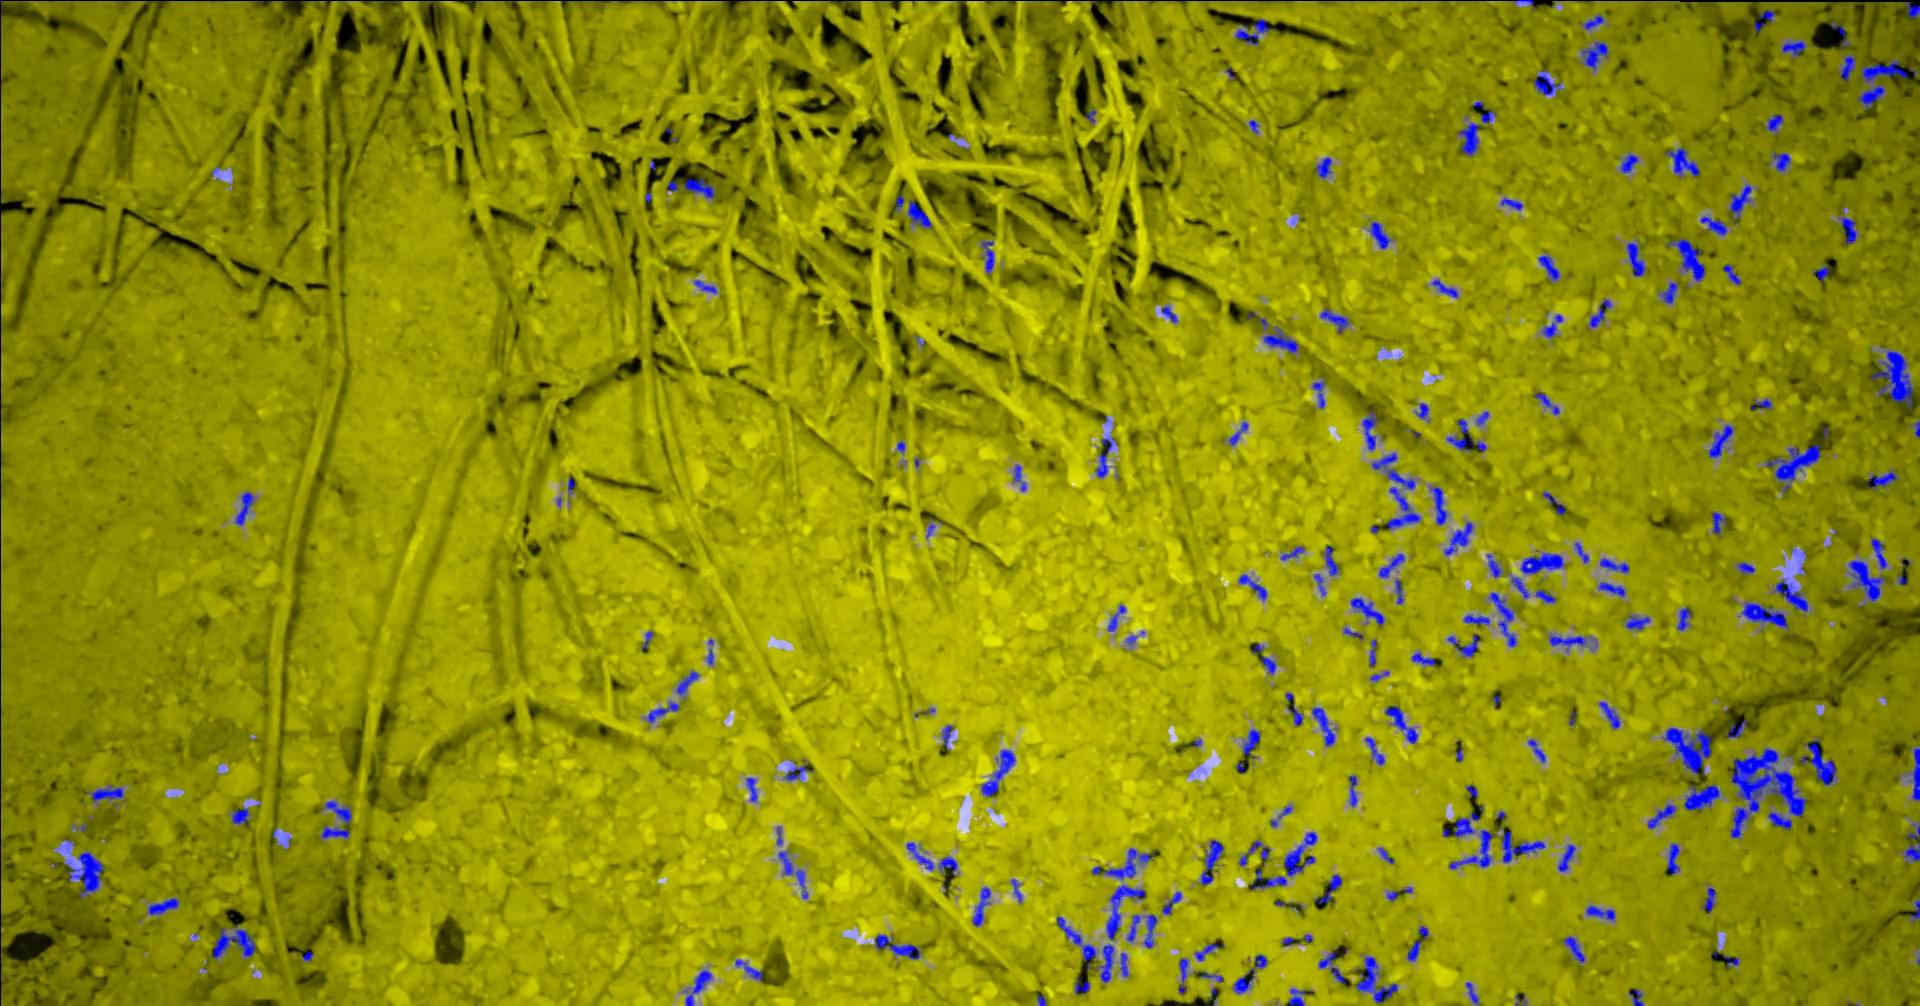ant: (1097, 884, 1145, 982), (1765, 443, 1820, 492), (1091, 847, 1156, 879), (1057, 916, 1095, 969), (1355, 956, 1397, 1005), (1799, 737, 1836, 785), (1497, 826, 1545, 862), (1448, 829, 1492, 868), (1666, 238, 1705, 279), (69, 851, 103, 898), (1371, 452, 1415, 489), (982, 749, 1015, 796), (212, 923, 255, 959), (1283, 831, 1316, 875), (1490, 592, 1516, 647), (1848, 560, 1884, 600), (1385, 486, 1420, 528), (1860, 58, 1919, 83), (1232, 954, 1267, 993), (778, 851, 808, 898), (1740, 601, 1788, 629), (1384, 705, 1417, 743), (319, 800, 350, 838), (874, 934, 919, 958), (1663, 146, 1699, 177), (1443, 521, 1473, 555), (1200, 840, 1223, 884), (684, 969, 712, 1005), (1683, 784, 1719, 810), (1775, 580, 1807, 611), (1350, 597, 1384, 625), (1443, 812, 1479, 837), (1310, 708, 1335, 746), (1520, 553, 1564, 573), (1236, 18, 1269, 44), (1263, 326, 1297, 353), (1707, 424, 1733, 457), (1318, 951, 1345, 984), (1095, 437, 1116, 478), (1313, 874, 1341, 904), (1730, 184, 1751, 224), (1238, 840, 1270, 865), (1247, 869, 1286, 889), (1457, 122, 1479, 156), (905, 842, 933, 870), (971, 887, 990, 926), (1581, 41, 1608, 69), (1857, 83, 1884, 109), (1238, 573, 1266, 600), (1319, 307, 1349, 333), (1251, 643, 1275, 673), (1446, 634, 1478, 657), (1647, 803, 1675, 828), (86, 785, 123, 804), (683, 177, 715, 198), (1430, 486, 1448, 525), (907, 199, 931, 227), (234, 492, 254, 525), (1446, 434, 1486, 451), (648, 701, 679, 721), (1533, 70, 1559, 94), (1378, 553, 1404, 577), (1589, 298, 1611, 326), (1625, 243, 1644, 276), (1549, 635, 1587, 652), (1284, 692, 1303, 725), (1363, 409, 1378, 450), (735, 958, 762, 981), (1837, 211, 1857, 243), (1865, 470, 1897, 489), (1903, 823, 1919, 862), (1537, 255, 1559, 281), (676, 669, 698, 695), (1369, 221, 1390, 248), (1533, 392, 1559, 414), (1597, 701, 1619, 728), (1699, 215, 1727, 235), (783, 760, 811, 780), (147, 897, 179, 915), (1752, 9, 1775, 33), (1562, 936, 1583, 962), (1364, 737, 1384, 763), (1542, 492, 1564, 514), (1470, 102, 1495, 123), (1242, 729, 1260, 758), (1194, 942, 1223, 960), (1107, 605, 1126, 631), (1557, 843, 1575, 871), (1161, 890, 1181, 915), (1870, 537, 1886, 569), (1143, 913, 1157, 948), (1837, 55, 1855, 81), (1830, 22, 1850, 44), (1542, 314, 1562, 337), (1585, 904, 1615, 920), (1228, 420, 1247, 445), (1768, 810, 1792, 829), (1431, 279, 1457, 297), (1528, 738, 1545, 762), (1324, 545, 1338, 575), (1599, 558, 1629, 572), (1511, 575, 1529, 598), (1597, 580, 1624, 596), (1911, 747, 1919, 800), (1764, 113, 1783, 133), (1771, 151, 1790, 171), (1666, 843, 1679, 874), (982, 240, 993, 273), (1288, 988, 1310, 1005), (1702, 887, 1716, 913), (1126, 915, 1140, 941), (1486, 553, 1501, 577), (938, 856, 957, 875), (1620, 152, 1638, 173), (1722, 264, 1740, 285), (1178, 958, 1189, 993), (1661, 282, 1677, 304), (1312, 380, 1324, 408), (1013, 464, 1026, 492), (1411, 652, 1436, 666), (1782, 39, 1804, 55), (1727, 719, 1746, 737), (1625, 615, 1650, 629), (1465, 981, 1479, 1005), (1316, 156, 1331, 178), (693, 279, 716, 293), (1710, 511, 1724, 533), (1676, 607, 1690, 630), (1583, 14, 1604, 29), (1010, 878, 1022, 902), (1161, 305, 1177, 323), (1349, 774, 1357, 807), (1500, 197, 1523, 210), (1813, 264, 1829, 283), (1280, 546, 1303, 559), (1407, 939, 1420, 962), (745, 777, 757, 801), (231, 807, 248, 823), (1463, 614, 1490, 624), (1377, 847, 1394, 862), (1074, 977, 1090, 995), (1575, 542, 1589, 561), (1535, 589, 1556, 602), (1903, 0, 1919, 17), (1628, 988, 1643, 1005), (1415, 401, 1429, 419), (1750, 398, 1771, 409), (1313, 573, 1324, 594), (942, 725, 952, 749), (1909, 897, 1919, 921), (1199, 970, 1222, 981), (1721, 954, 1738, 967), (1119, 951, 1128, 976), (1737, 561, 1754, 574), (1369, 639, 1377, 666), (1394, 578, 1402, 603), (1476, 412, 1488, 426), (1236, 760, 1248, 774), (893, 194, 903, 211), (706, 639, 712, 664), (1457, 418, 1467, 433)
